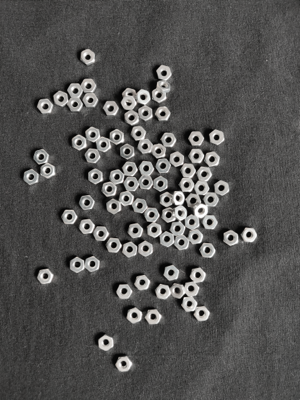nut: (116, 356, 133, 373), (98, 335, 114, 352), (85, 256, 101, 273), (37, 269, 54, 285), (37, 99, 54, 115), (127, 308, 143, 324), (182, 297, 198, 313), (164, 265, 180, 281), (135, 275, 151, 291), (122, 242, 138, 258), (128, 223, 144, 239), (169, 152, 185, 168), (96, 137, 112, 153), (24, 169, 40, 185), (34, 149, 50, 165), (156, 65, 172, 81), (190, 268, 207, 283), (199, 243, 216, 258), (224, 230, 239, 247), (241, 228, 258, 243), (93, 227, 110, 242), (139, 241, 154, 258), (173, 205, 188, 222), (101, 182, 118, 197), (204, 152, 221, 167), (84, 149, 101, 164), (81, 49, 96, 66), (145, 311, 163, 325), (194, 307, 210, 322), (170, 284, 186, 299), (155, 285, 171, 300), (70, 257, 85, 273), (62, 210, 78, 225), (79, 219, 95, 234), (106, 238, 122, 253), (160, 232, 175, 248), (174, 236, 190, 251), (188, 230, 204, 245), (79, 195, 95, 210), (170, 222, 186, 237), (202, 215, 218, 230), (107, 199, 122, 215), (119, 191, 134, 207), (144, 208, 160, 223), (132, 199, 148, 214), (214, 181, 230, 196), (194, 181, 210, 196), (138, 176, 154, 191), (124, 177, 140, 192), (88, 169, 103, 185), (197, 167, 213, 182), (122, 162, 138, 177), (138, 161, 154, 176), (189, 149, 205, 164), (209, 130, 225, 145), (137, 139, 153, 154), (120, 144, 135, 160), (41, 163, 56, 179), (86, 127, 101, 143), (110, 130, 125, 146), (155, 107, 171, 122), (136, 90, 151, 106), (83, 93, 99, 108), (54, 91, 69, 107), (116, 285, 133, 299), (203, 193, 220, 207), (188, 132, 205, 146), (103, 102, 120, 116), (185, 282, 200, 297), (185, 215, 200, 230), (193, 204, 208, 219), (110, 170, 125, 185), (156, 159, 171, 174), (151, 144, 166, 159), (124, 111, 139, 126), (162, 208, 176, 224), (186, 194, 202, 208), (179, 178, 195, 192), (154, 176, 168, 192), (161, 133, 177, 147), (73, 135, 87, 151), (131, 127, 147, 141), (139, 106, 153, 122), (123, 88, 137, 104), (67, 98, 83, 112), (67, 84, 83, 98), (81, 79, 97, 93), (148, 223, 162, 238), (171, 191, 185, 206), (181, 164, 196, 178), (153, 89, 167, 104), (160, 192, 173, 208), (121, 97, 137, 110), (157, 81, 171, 93)
